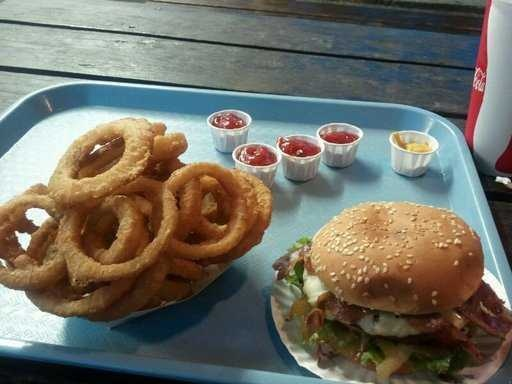hamburger: (288, 207, 497, 366)
